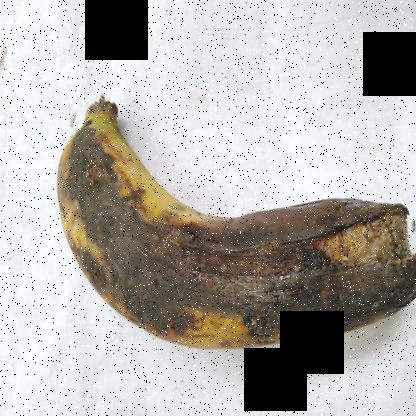rotten: (53, 108, 397, 364)
